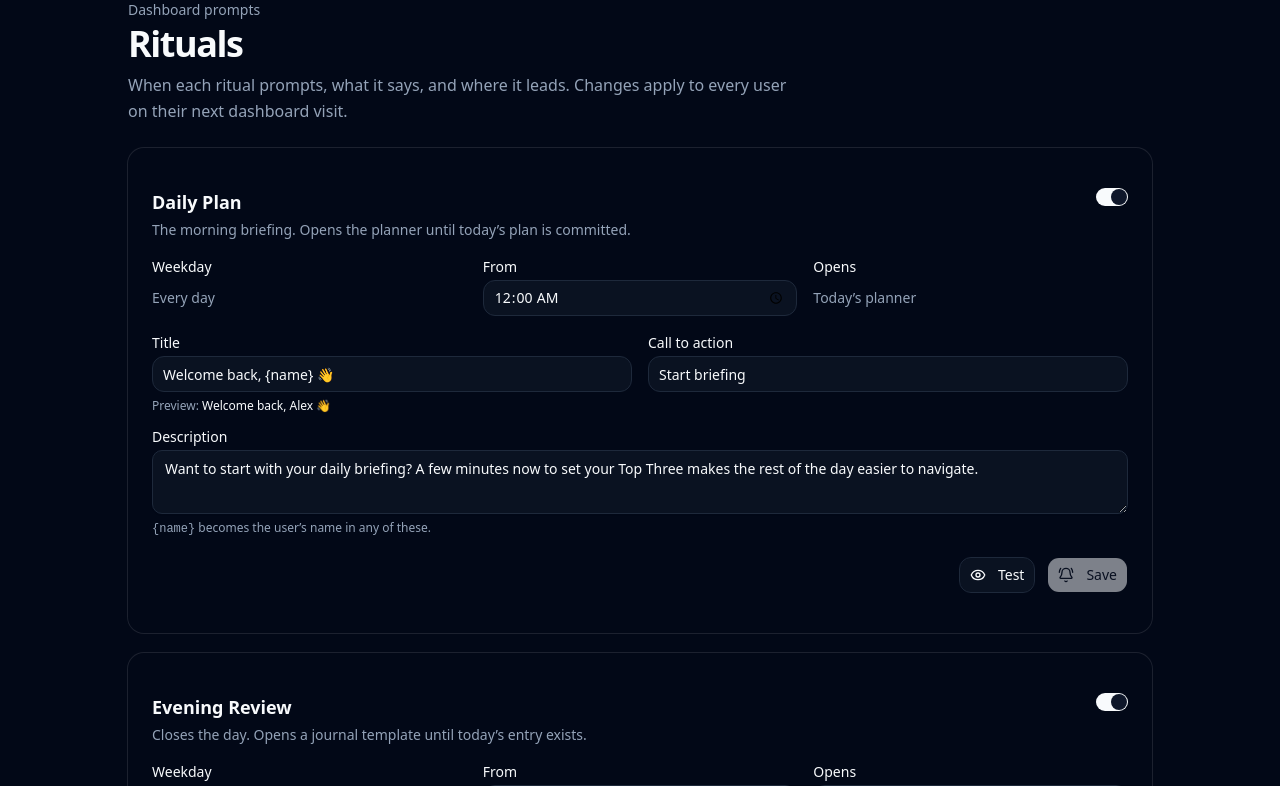
Test case: RitualsHub preview › closes the preview again without writing a dismissal
Click the button named "preview" at (997, 575), box [959,557,1036,593]
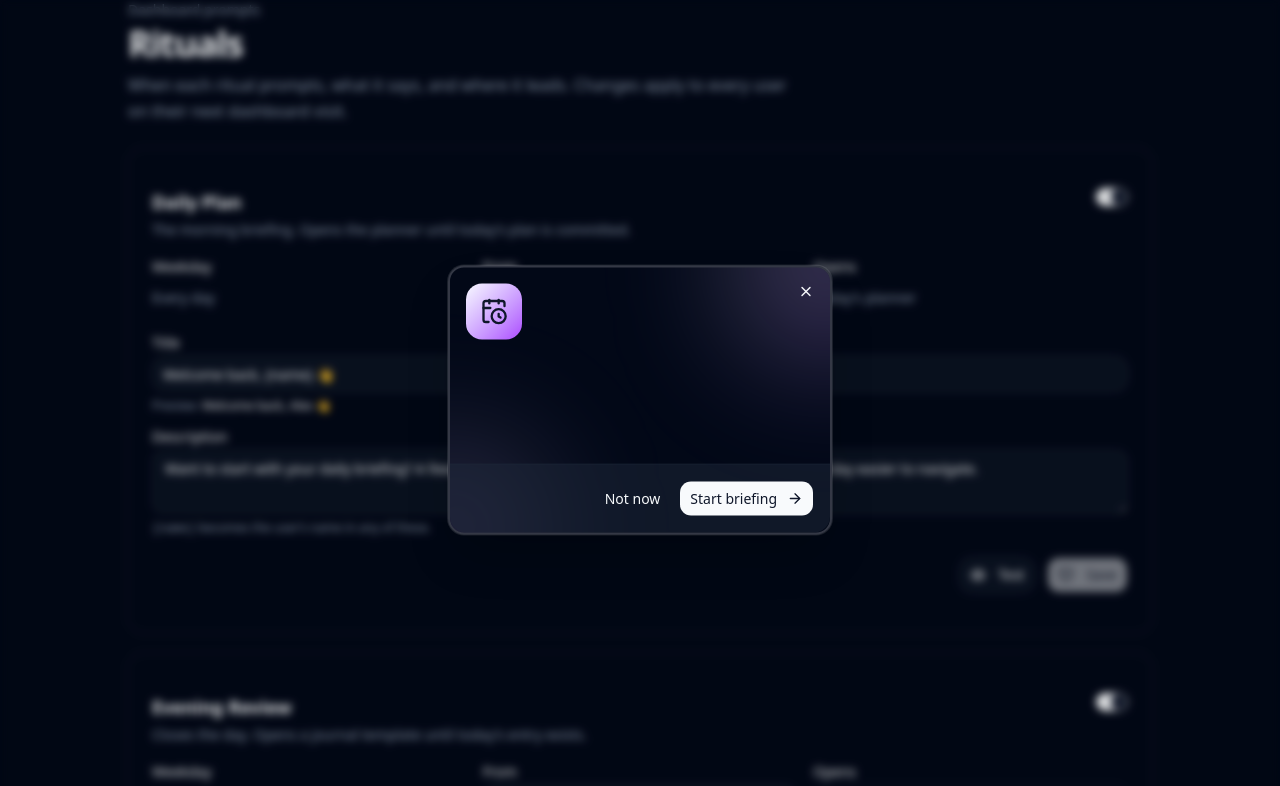
Click the button "Not now" at (633, 498), box [594,480,671,516]
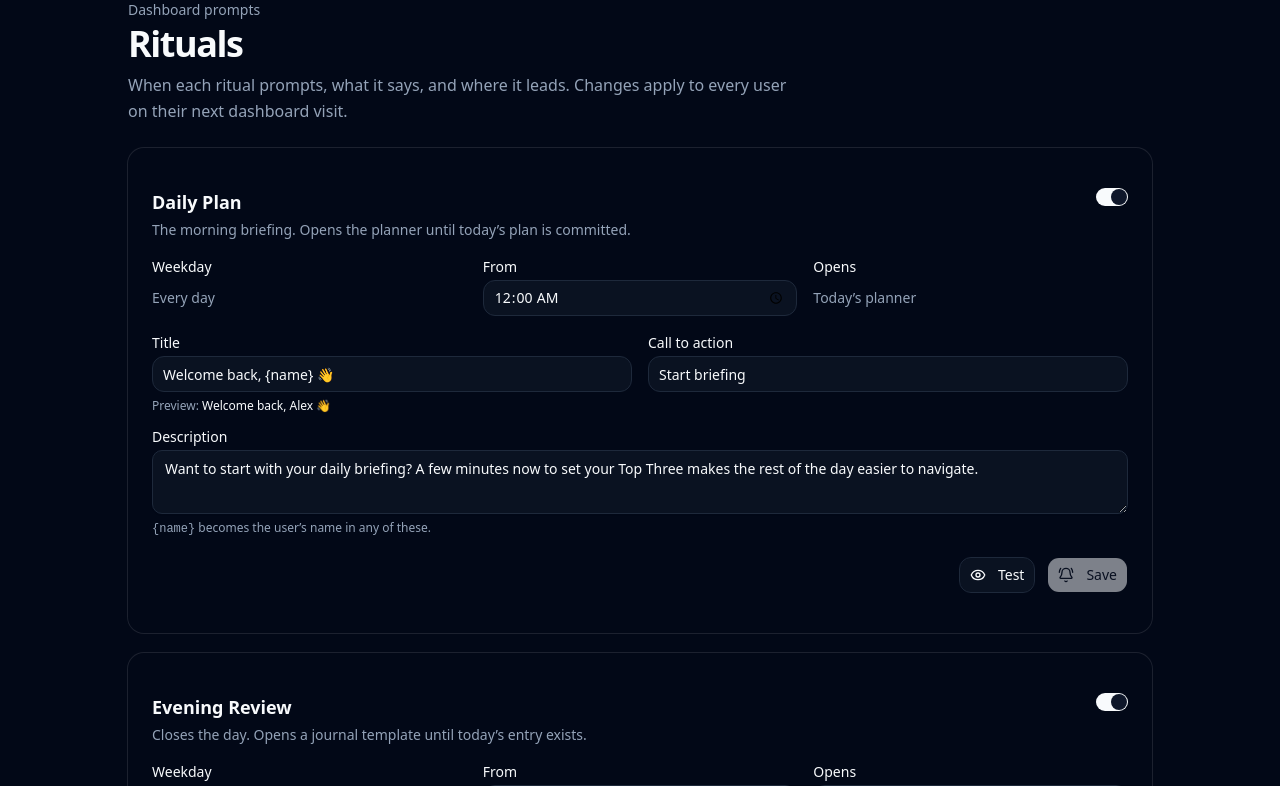
Check: the dialog is gone
